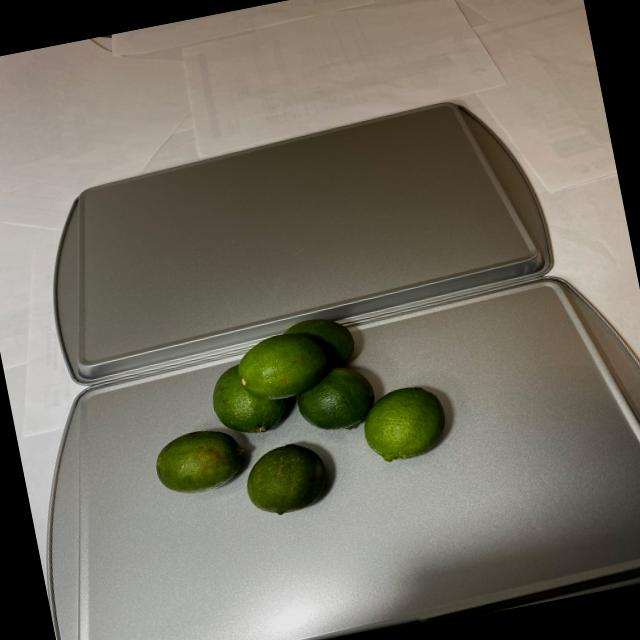lemon: (128, 297, 462, 543)
